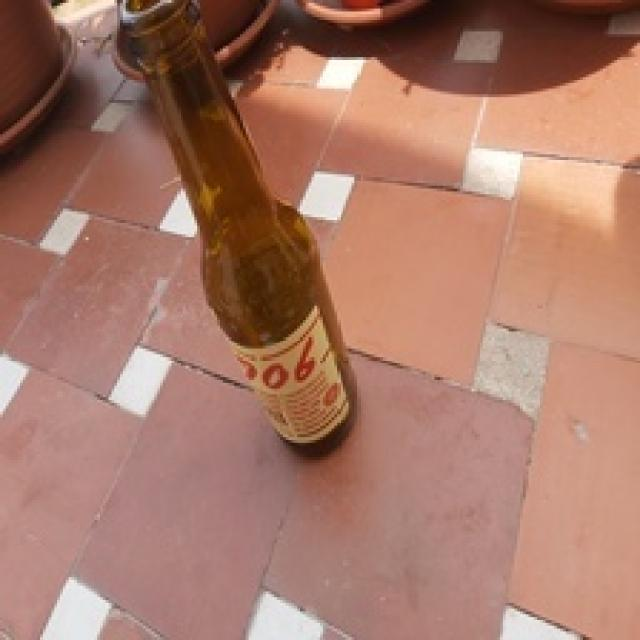Glass: (119, 0, 362, 464)
